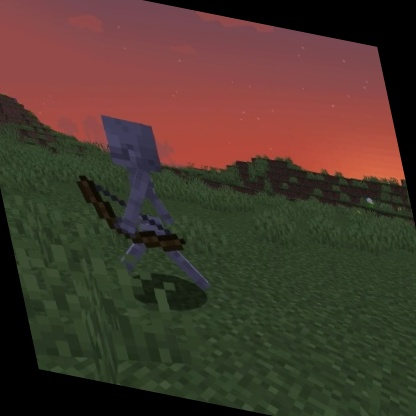skeleton: (57, 102, 216, 297)
